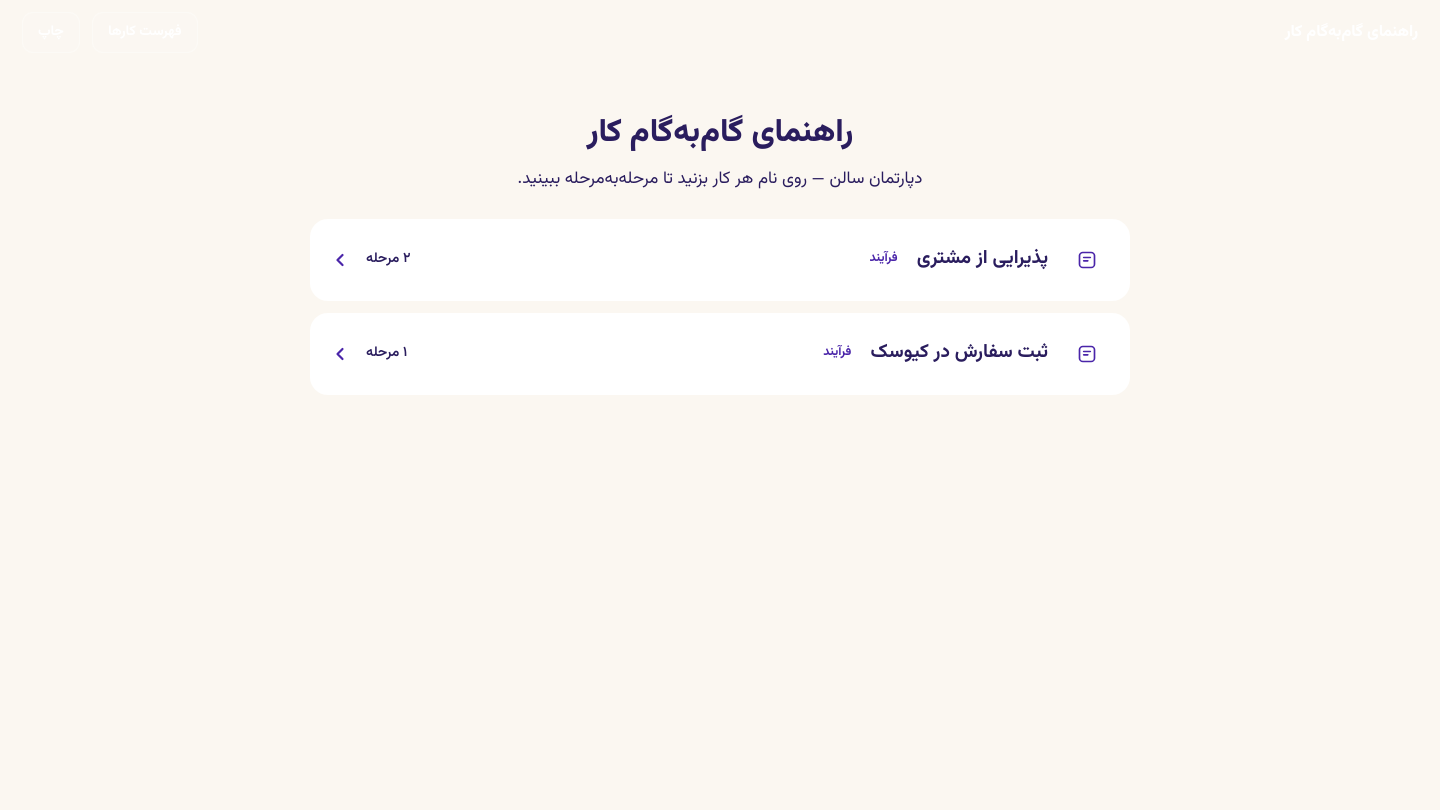
Test: StepsApp › opens a process and reveals a step description on click
Step 1. Click the text "پذیرایی از مشتری" → (959, 259), box [870,244,1048,273]
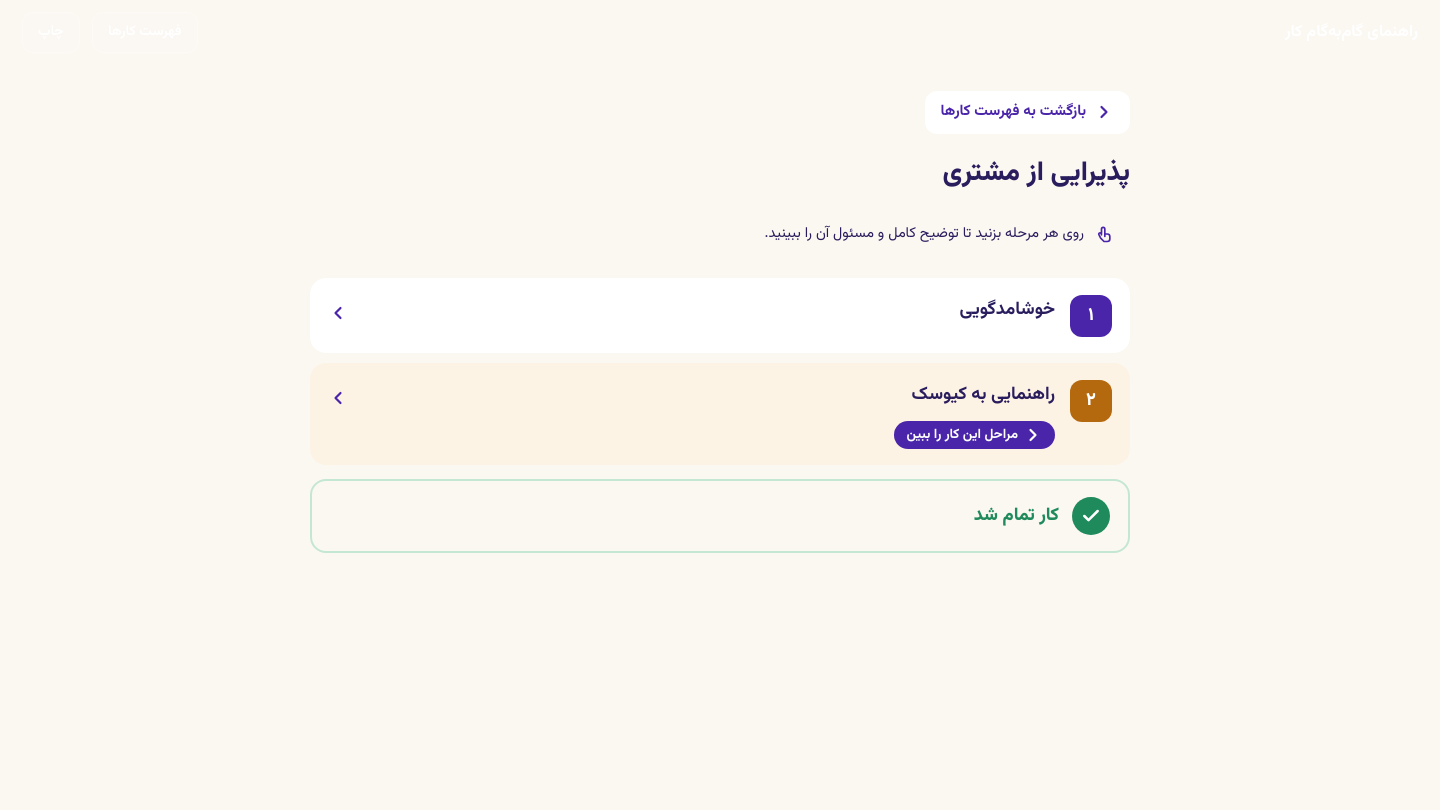
Expected: the text "خوشامدگویی" is shown
Expected: the text "کار تمام شد" is shown, [310,479,1130,553]
Step 2. Click the text "خوشامدگویی" → (1007, 310), box [960,296,1055,324]
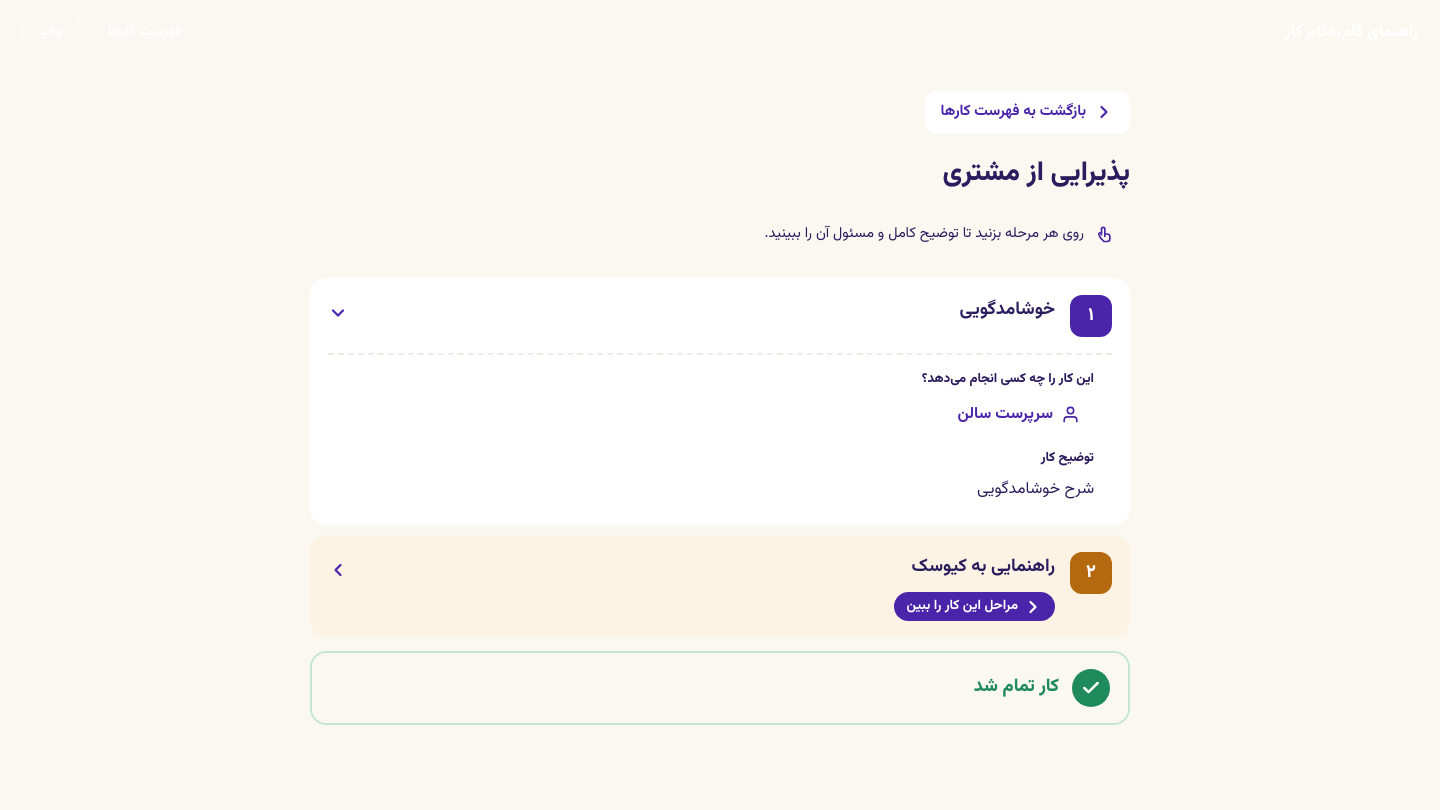
Expected: the text "شرح خوشامدگویی" is shown, [977,477,1094,502]
Expected: the text "سرپرست سالن" is shown, [958,402,1080,427]
